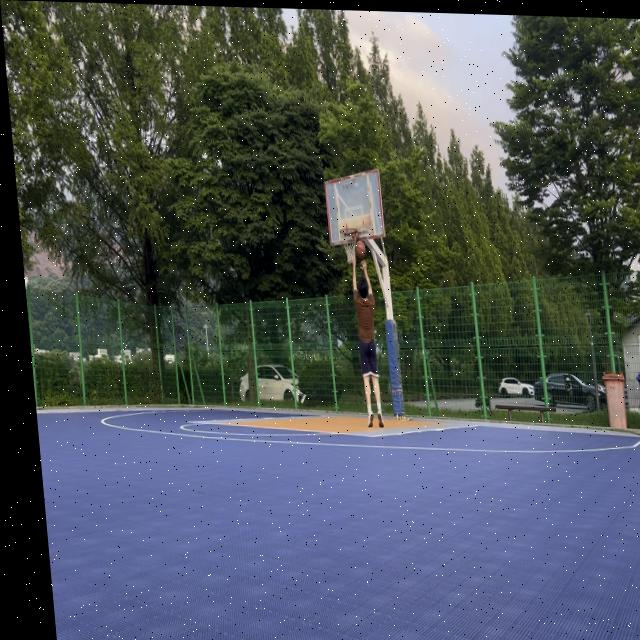basketball: (355, 239, 367, 260)
hoop: (339, 227, 361, 265)
